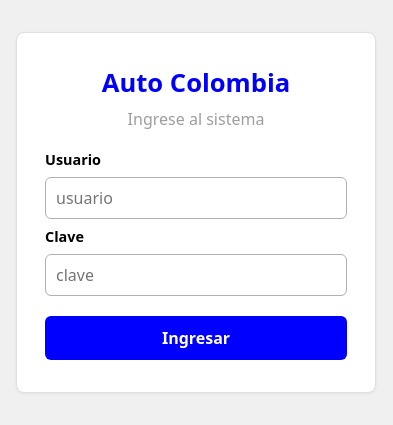
LoginPage › debería mostrar error si el login falla
The image size is (393, 425).
// Llenar campos para que el botón no esté deshabilitado si hubiera lógica extra
Type "test" into the field labelled "Usuario". click: (196, 198)
box: [45,176,347,218]
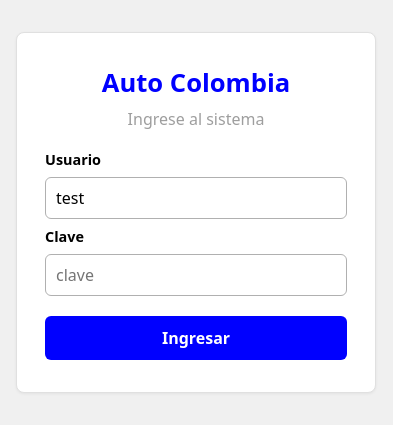
Type "test" into the password field labelled "Clave". click: (196, 274)
box: [45,254,347,296]
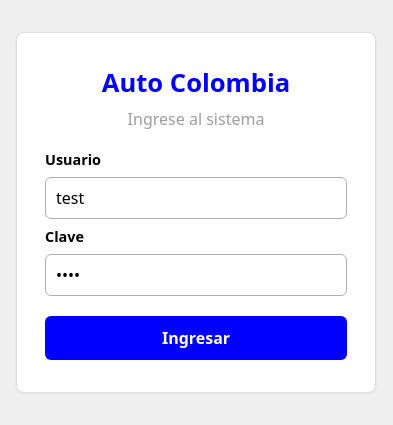
Click the button "Ingresar". click: (196, 338)
box: [45,316,347,360]
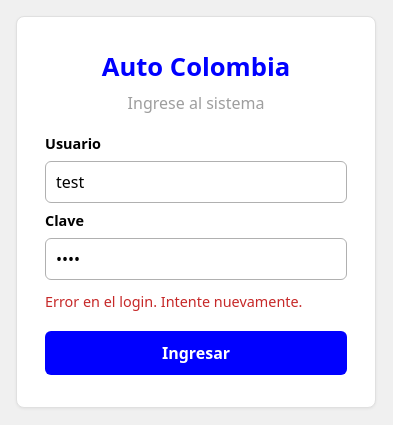
Expected: the text "Error en el login. Intente nuevamente." is shown, [45,292,347,311]
